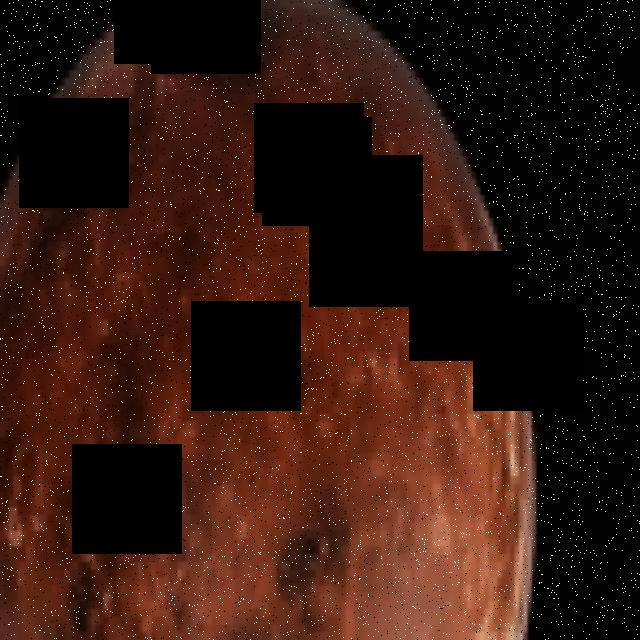Venus: (0, 0, 536, 640)
